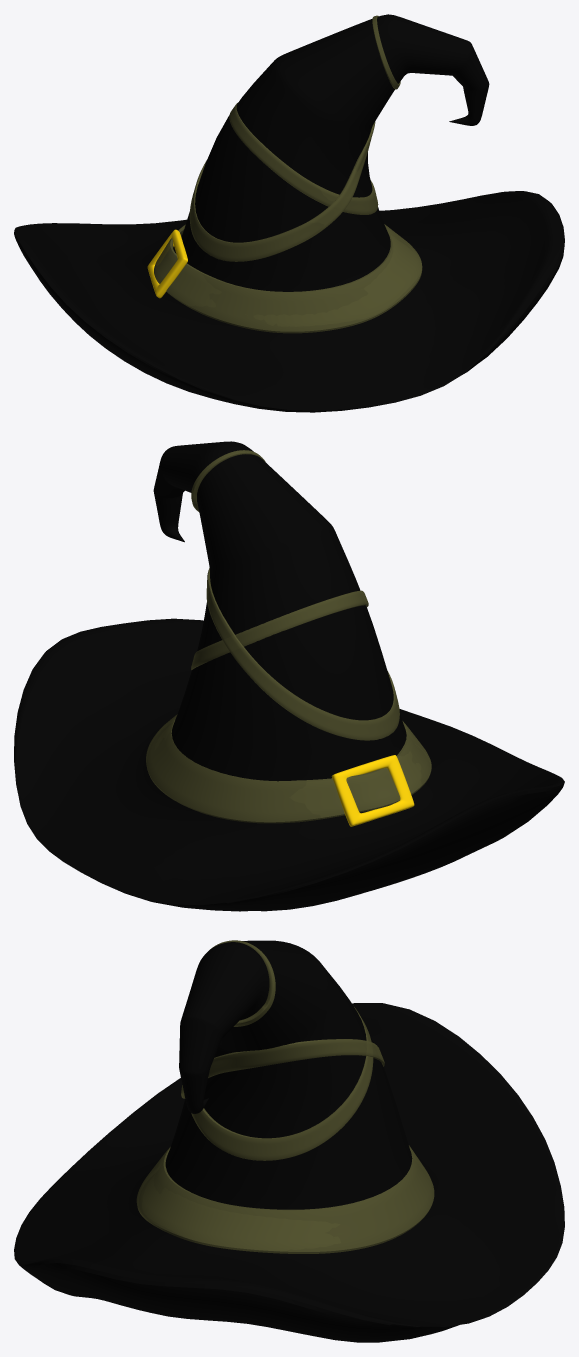
File: HatWitch.fbx
The picture shows the model from 3 angles, top to bottom: view 1: azimuth 30°, elevation 25°; view 2: azimuth 150°, elevation 25°; view 3: azimuth 270°, elevation 25°; orthographic projection. The views are drawn at different scales.
Visible parts, largest first — view 1: Circle, Circle.001, Plane; view 2: Circle, Circle.001, Plane; view 3: Circle, Circle.001.
Part boxes in pixels (x1,y1,x2,y2): Circle: (14,14,564,412); Circle.001: (154,15,422,333); Plane: (147,229,187,298); Circle: (14,441,564,911); Circle.001: (146,450,431,823); Plane: (331,755,414,826); Circle: (14,940,564,1342); Circle.001: (136,940,434,1253).
Size of the model in its own units: 540 by 340 by 472.
